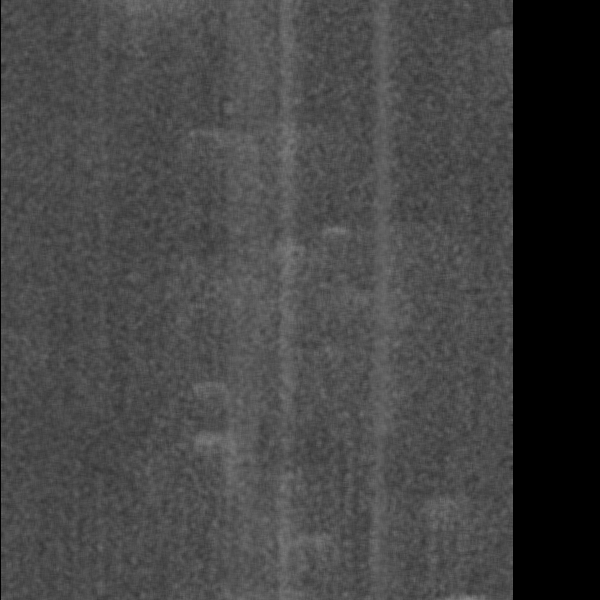spark: (58, 2, 147, 93), (285, 304, 310, 439), (432, 81, 488, 134), (46, 296, 97, 342), (352, 186, 391, 242), (96, 289, 131, 343), (224, 351, 275, 384), (229, 503, 263, 547)
